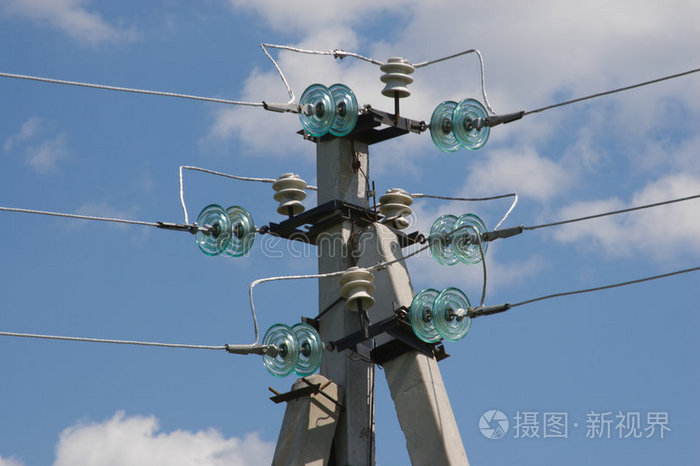insulator: (411, 285, 469, 342), (193, 204, 254, 257), (429, 214, 490, 267), (297, 81, 353, 138), (265, 322, 318, 378), (430, 101, 488, 152), (337, 268, 378, 314), (377, 60, 419, 98), (273, 174, 309, 212), (381, 190, 413, 227)
